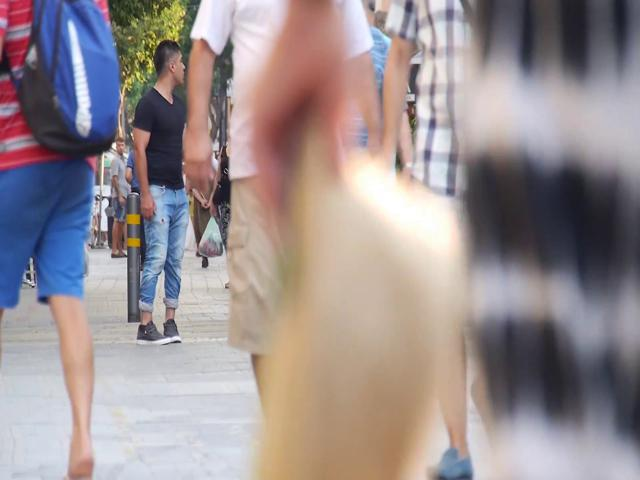shoe: (136, 321, 171, 346), (162, 320, 182, 343)
